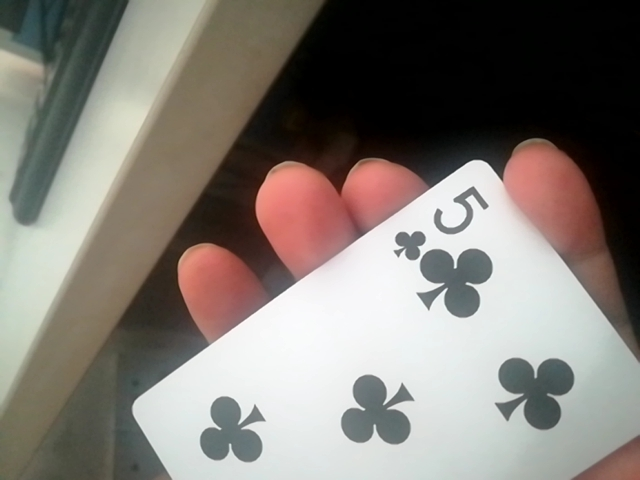mh 5: (125, 152, 638, 480)
